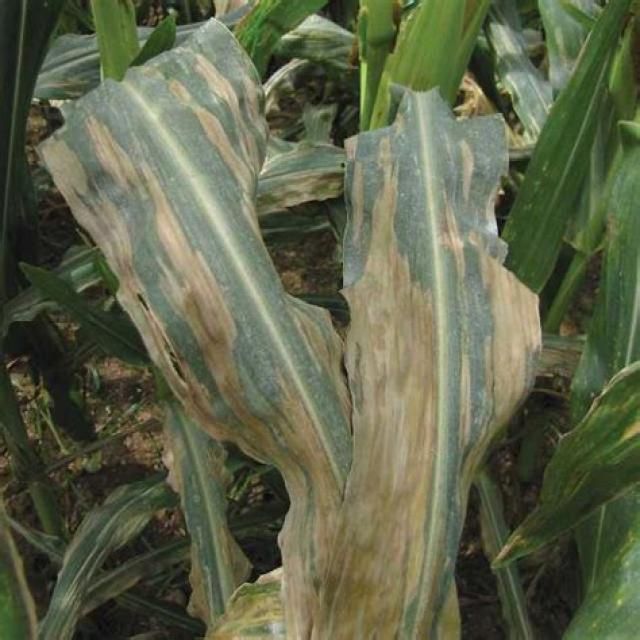blight: (352, 143, 452, 454), (134, 114, 250, 324)
